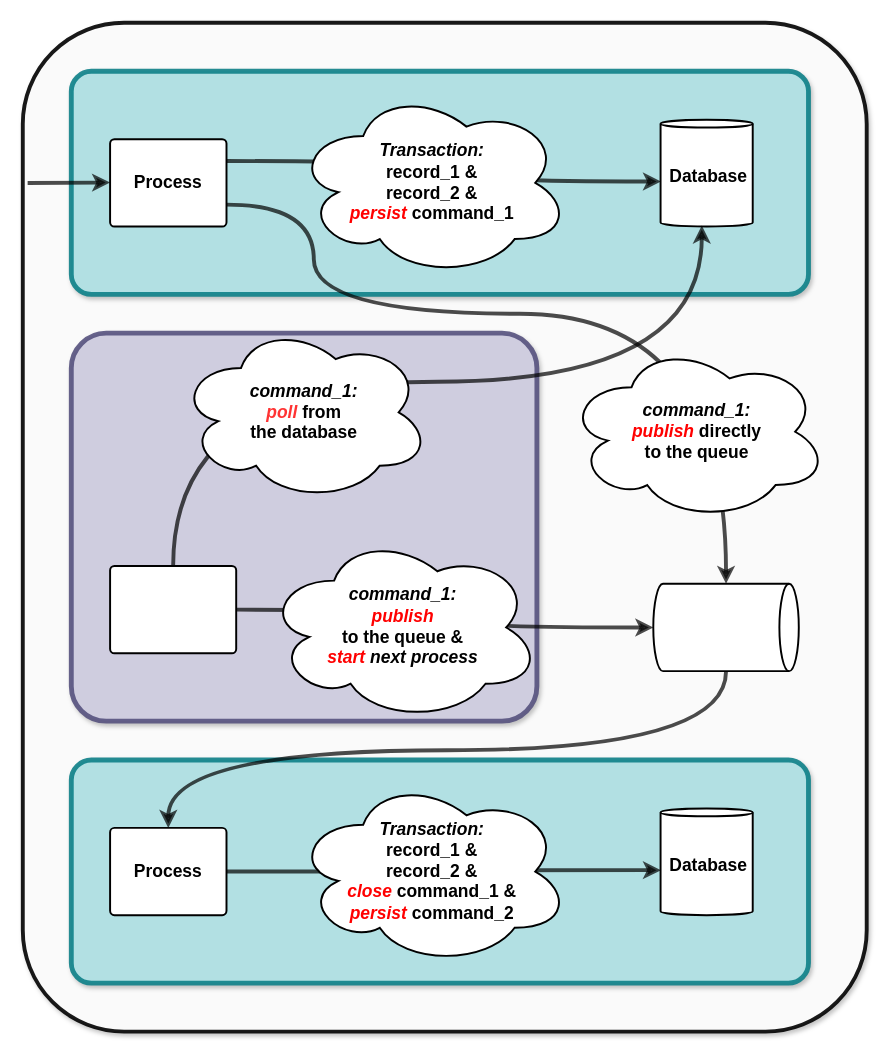
Some shapes in this 890 by 1056 pixel diagram are drawn without their labels. Each missing label, with the centre of its shape:
Outboxer: (173,609)
Queue: (725,627)
